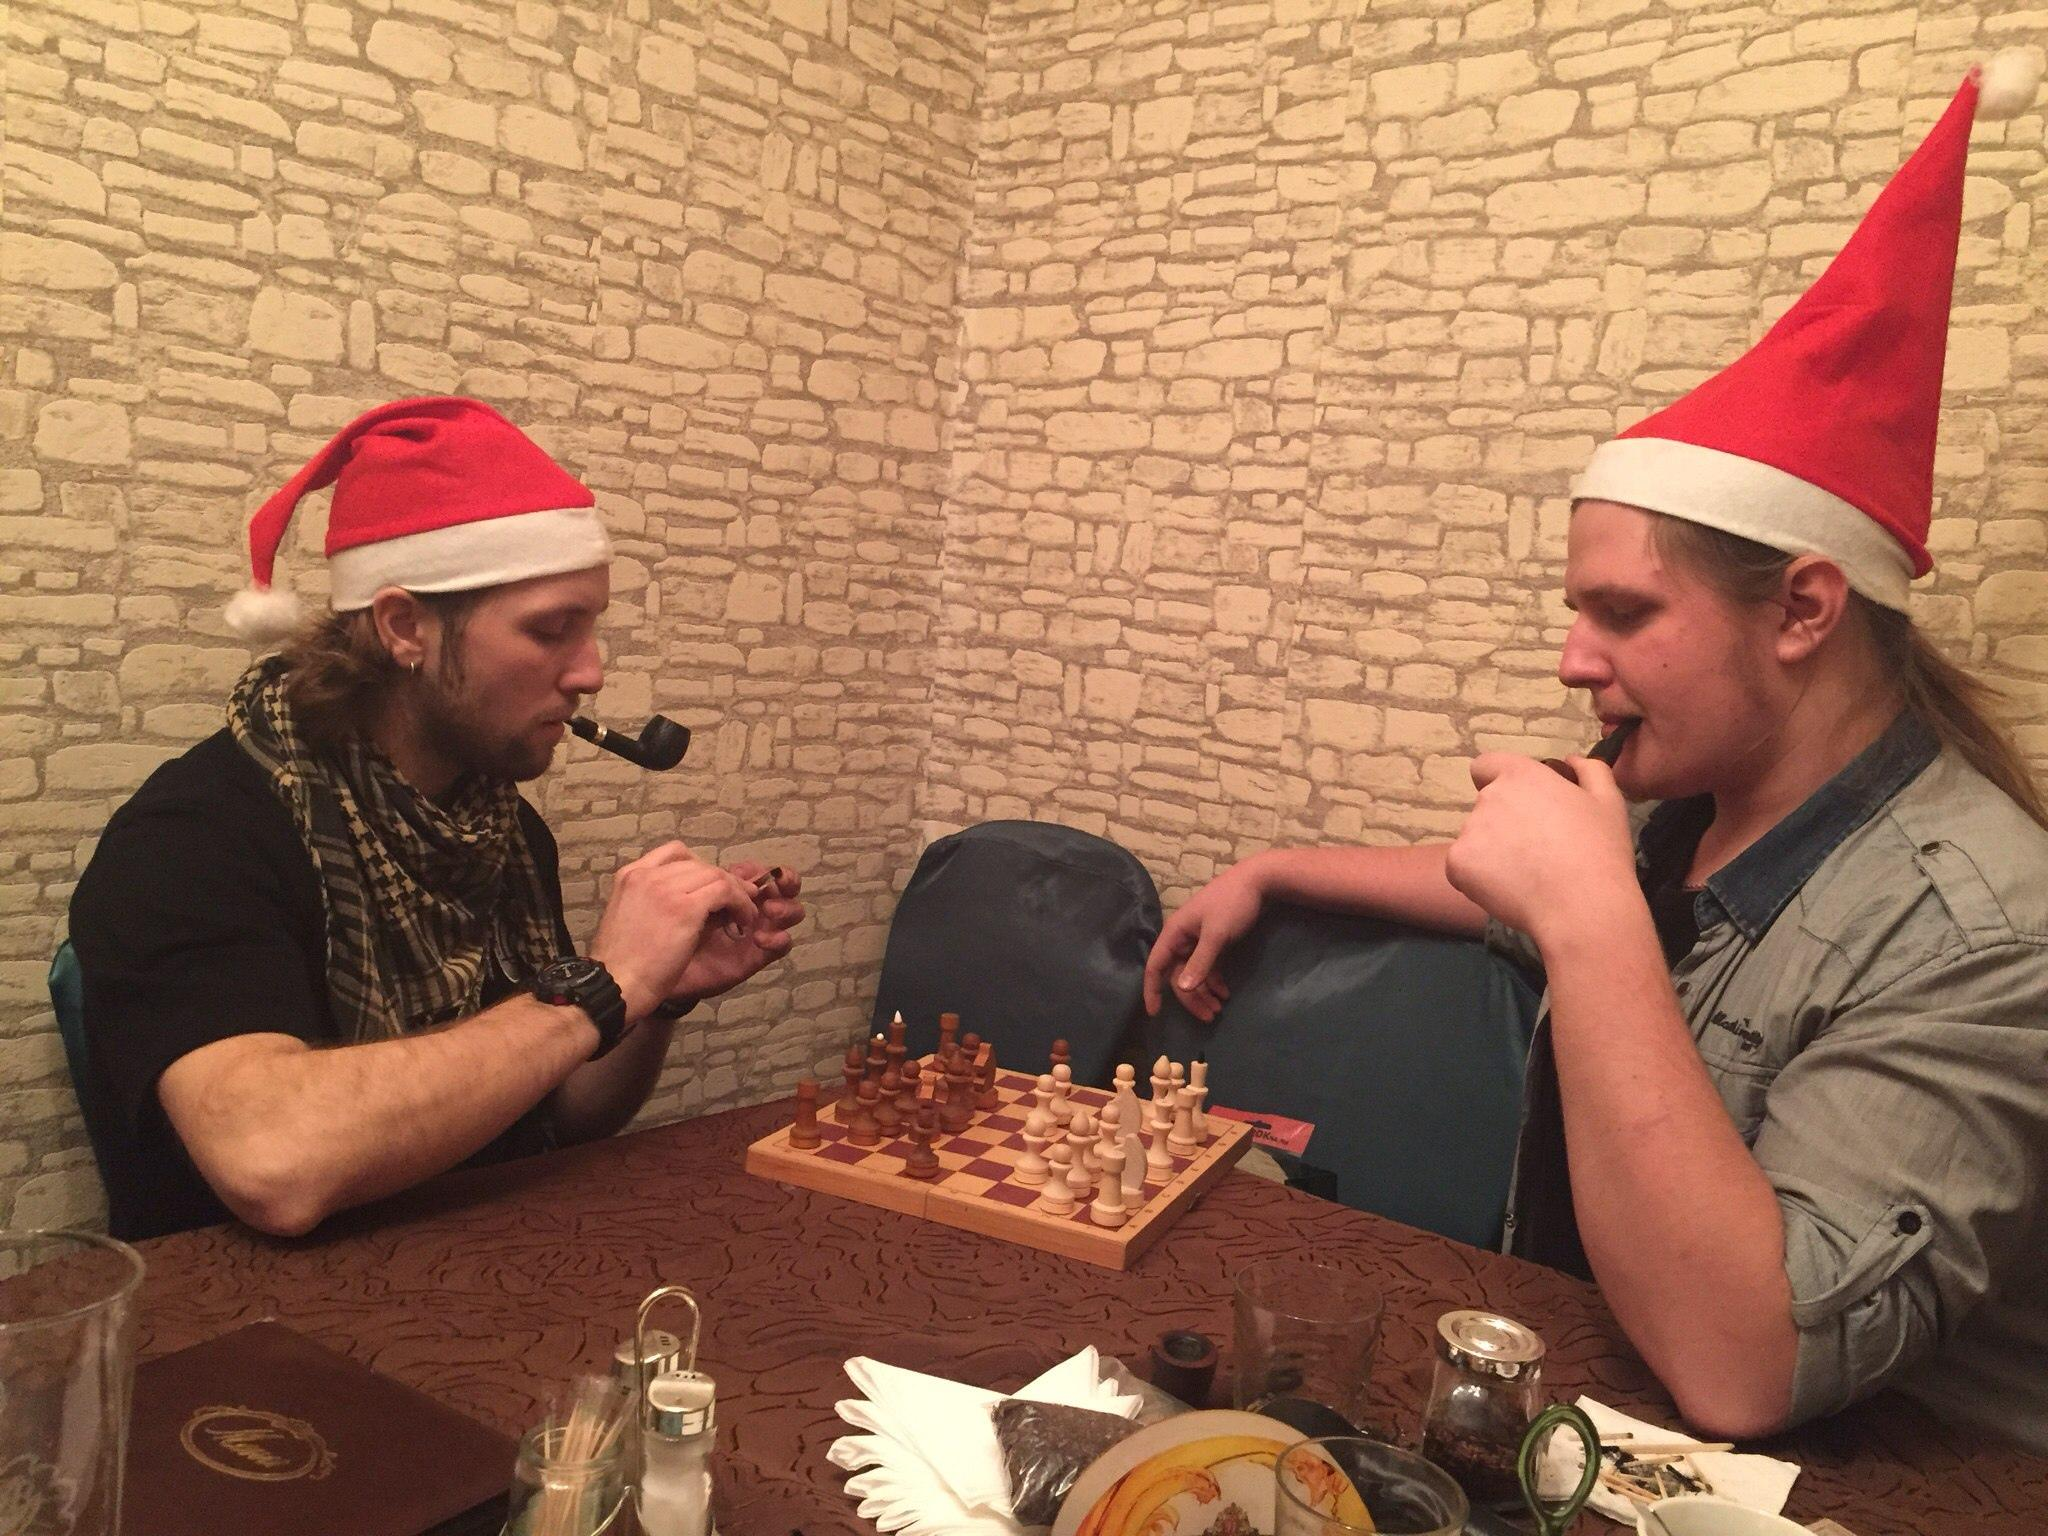trubka: (1538, 718, 1642, 786), (564, 715, 692, 770)
